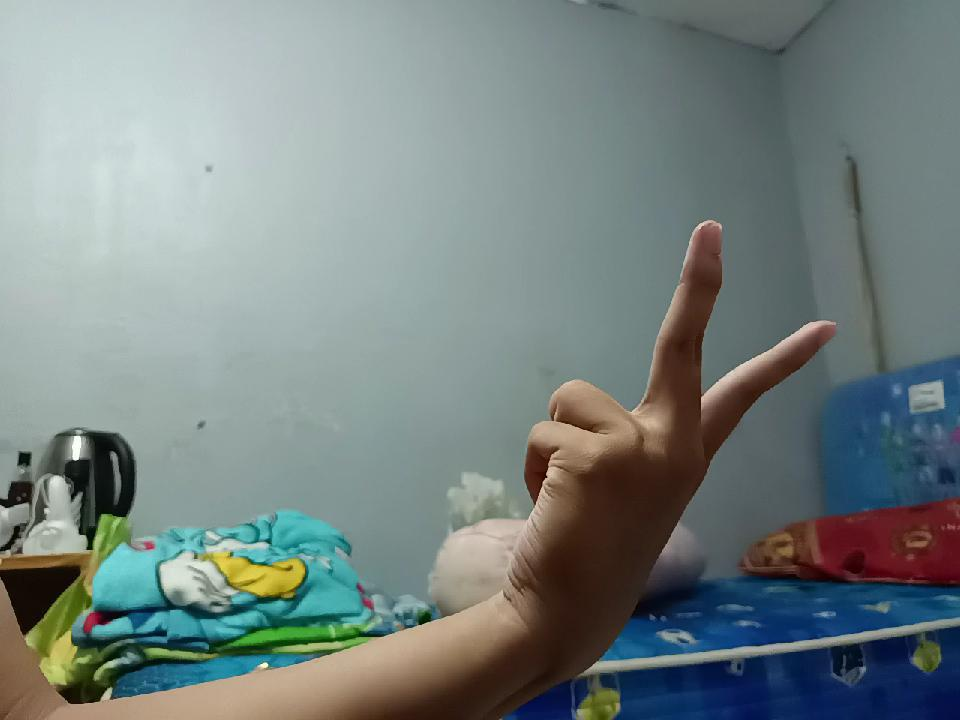scissors: (488, 207, 826, 616)
